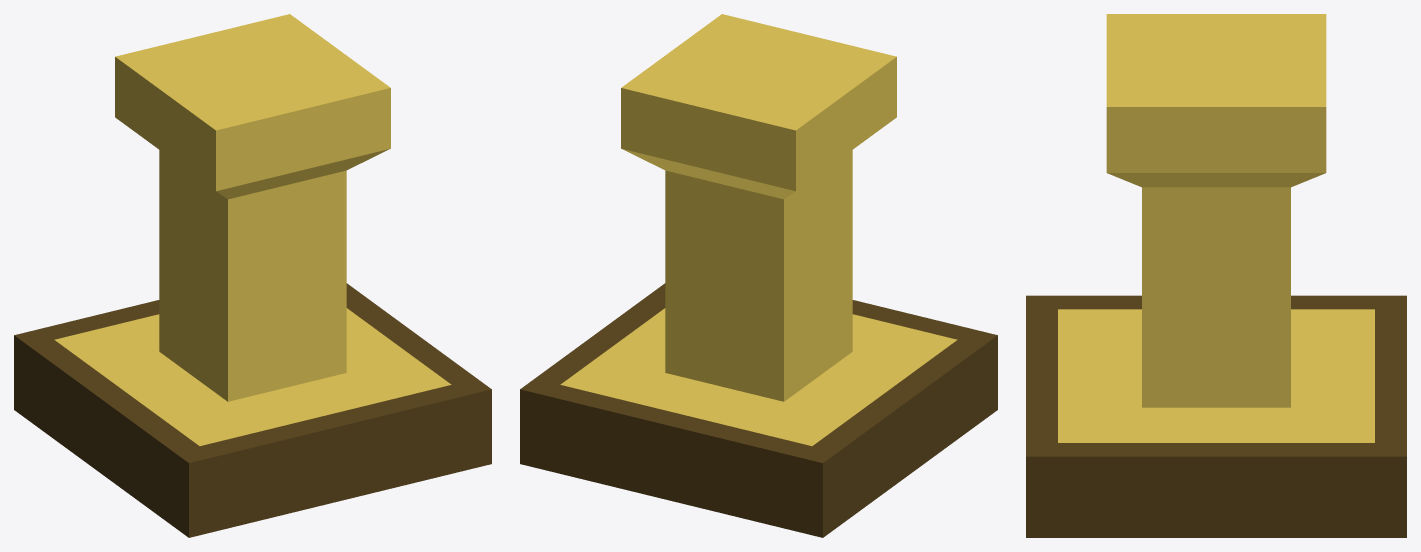
File: Stamper.fbx
3 renders of one model, left to right at view 1: azimuth 30°, elevation 25°; view 2: azimuth 150°, elevation 25°; view 3: azimuth 270°, elevation 25°, orthographic. The views are drawn at different scales.
Visible parts, largest first — view 1: Cube; view 2: Cube; view 3: Cube.
Part boxes in pixels (<box>): Cube: <box>14,14,491,537</box>; Cube: <box>520,14,997,537</box>; Cube: <box>1026,14,1406,537</box>.
Size of the model in its own units: 200 by 230 by 200.
